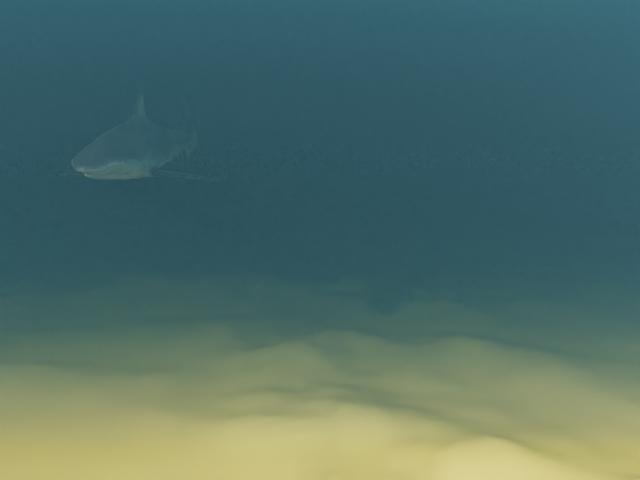Carribean Shark.001: (57, 86, 222, 181)
